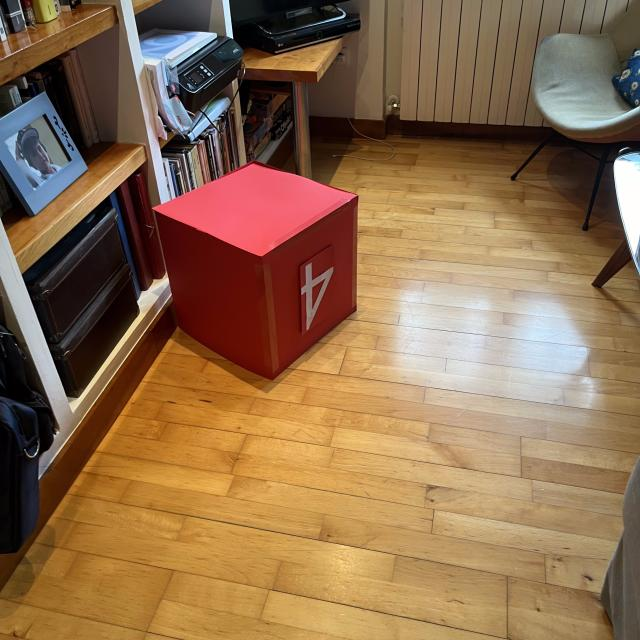box: (150, 158, 362, 381)
